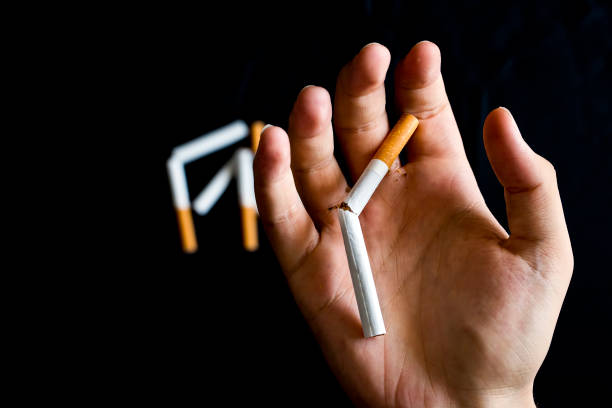cigarette: (333, 113, 419, 340), (169, 121, 249, 164), (164, 158, 199, 254), (235, 146, 263, 250), (192, 153, 238, 216), (251, 119, 266, 155)
